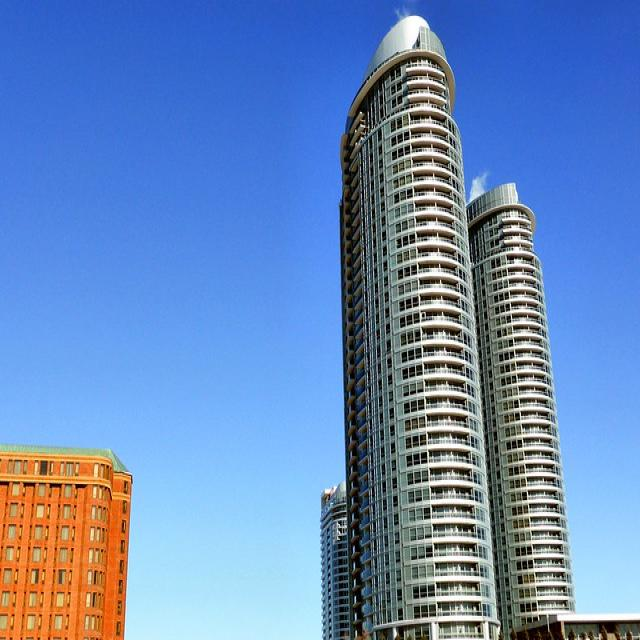building: (337, 10, 502, 640), (460, 178, 579, 638)
